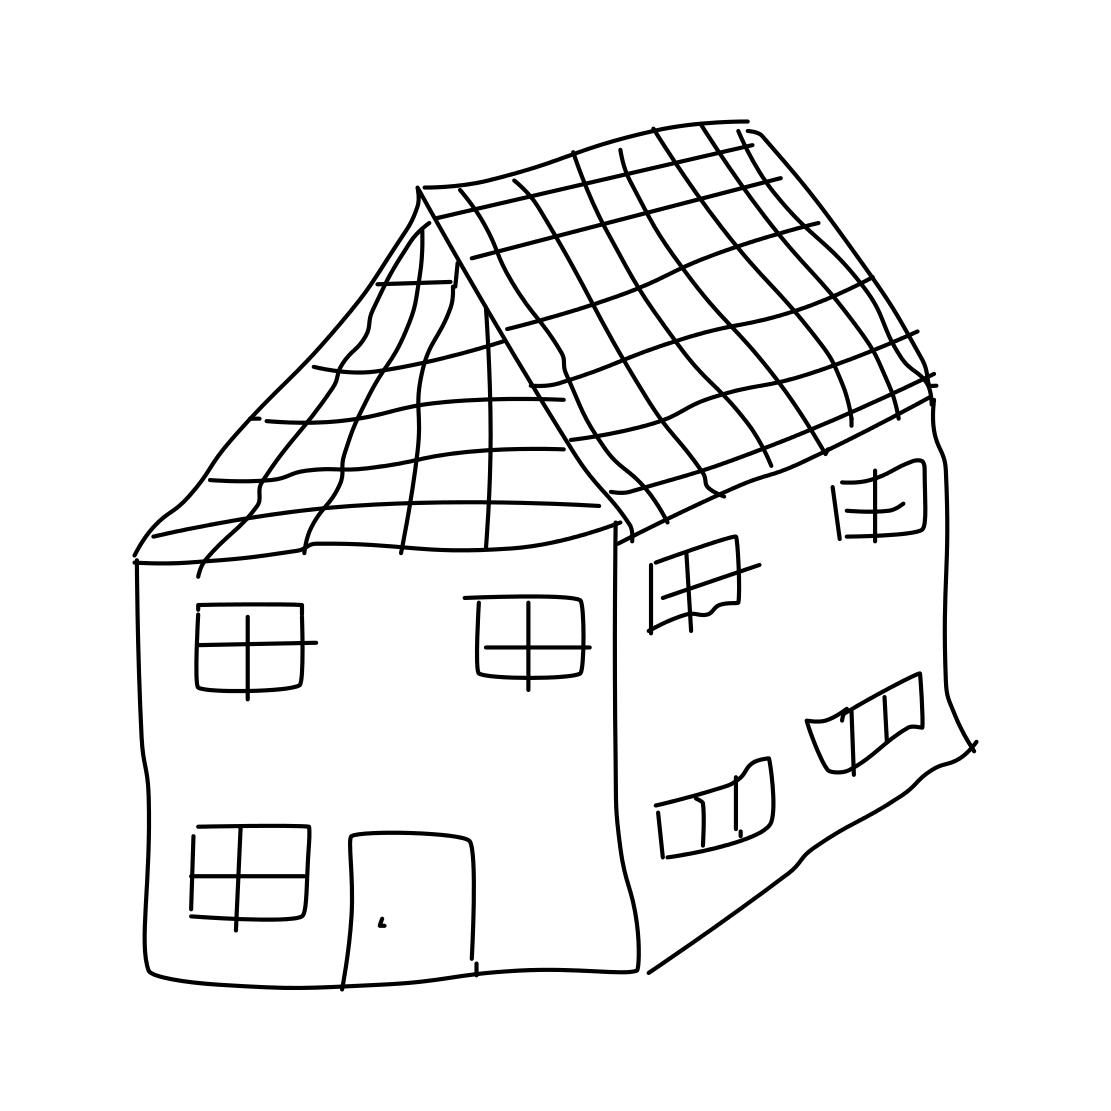House: (58, 102, 1008, 996)
